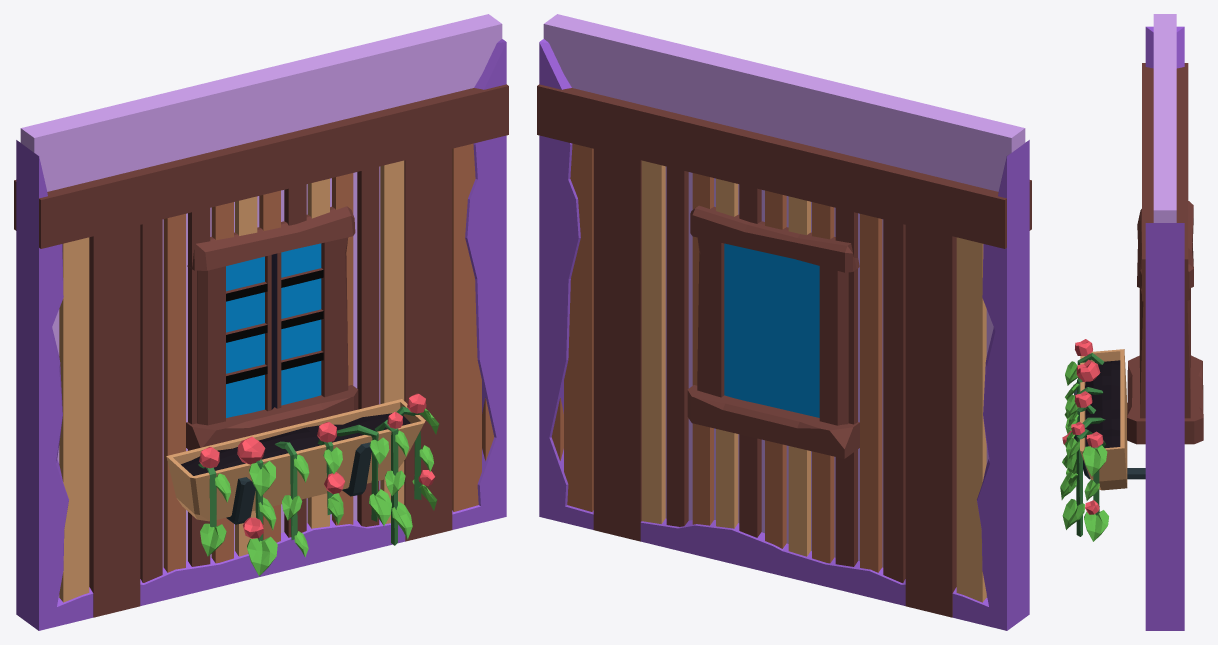
File: Modular Wall 05 MK2 W4.fbx
3 renders of one model, left to right at view 1: azimuth 30°, elevation 25°; view 2: azimuth 150°, elevation 25°; view 3: azimuth 270°, elevation 25°, orthographic. The views are drawn at different scales.
Visible parts, largest first — view 1: Modular Wall 05 MK2 W4; view 2: Modular Wall 05 MK2 W4; view 3: Modular Wall 05 MK2 W4.
Part boxes in pixels (bbox=[...]): Modular Wall 05 MK2 W4: bbox=[14, 14, 508, 630]; Modular Wall 05 MK2 W4: bbox=[537, 14, 1031, 630]; Modular Wall 05 MK2 W4: bbox=[1060, 14, 1203, 630].
Bounding box in the file's own units: 400 × 400 × 124.
